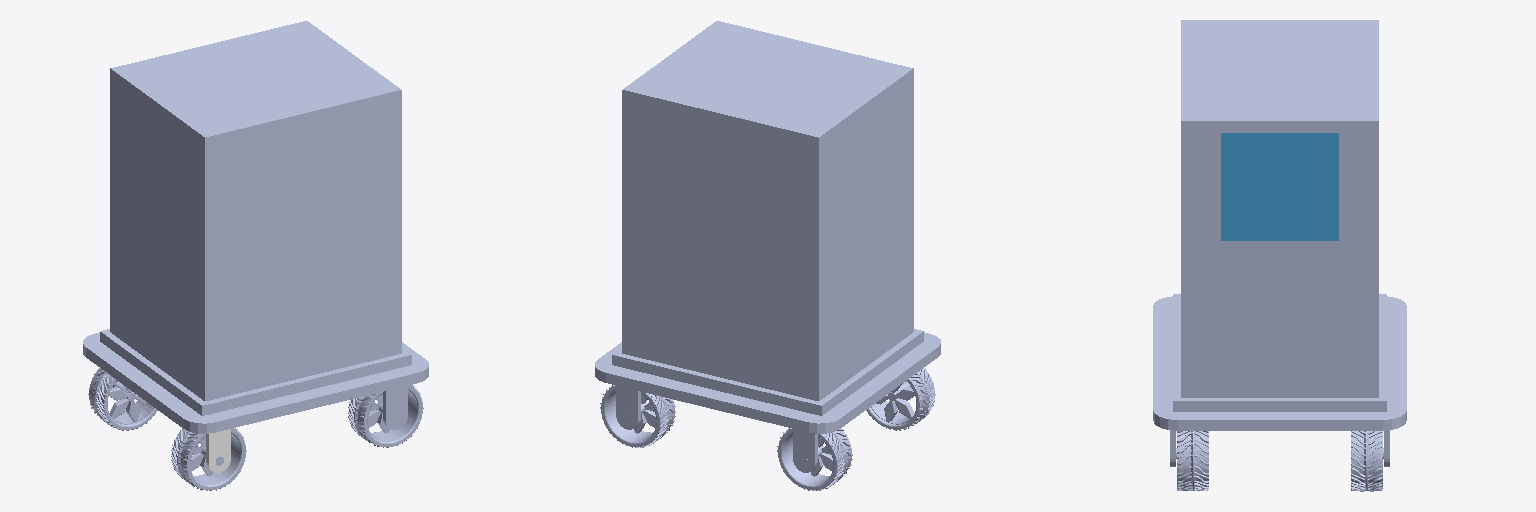
robot.urdf — caja1:
<?xml version="1.0" encoding="utf-8"?>
<!-- This URDF was automatically created by SolidWorks to URDF Exporter! Originally created by [author] ([email redacted]) 
     Commit Version:   Build Version: 1.6.9335.19781
     For more information, please see http://wiki.ros.org/sw_urdf_exporter -->
<robot
  name="caja1">
  <link
    name="base_link_caja">
    <inertial>
      <origin
        xyz="-1.5473E-10 1.3009E-10 0.30355"
        rpy="0 0 0" />
      <mass
        value="40" />
      <inertia
        ixx="0.57343"
        ixy="-2.5473E-12"
        ixz="-7.7732E-12"
        iyy="0.64792"
        iyz="1.9357E-12"
        izz="0.42048" />
    </inertial>
    <visual>
      <origin
        xyz="0 0 0"
        rpy="0 0 0" />
      <geometry>
        <mesh
          filename="package://palletizer_v1_description/meshes/base_link_caja.STL" />
      </geometry>
      <material
        name="">
        <color
          rgba="0.79216 0.81961 0.93333 1" />
      </material>
    </visual>
    <collision>
      <origin
        xyz="0 0 0"
        rpy="0 0 0" />
      <geometry>
        <mesh
          filename="package://palletizer_v1_description/meshes/base_link_caja.STL" />
      </geometry>
    </collision>
  </link>
  <link
    name="link1">
    <inertial>
      <origin
        xyz="-2.1175E-07 0.01406 0.037948"
        rpy="0 0 0" />
      <mass
        value="0.028235" />
      <inertia
        ixx="1.9996E-05"
        ixy="-8.0646E-11"
        ixz="1.4679E-10"
        iyy="1.6497E-05"
        iyz="5.884E-06"
        izz="8.1543E-06" />
    </inertial>
    <visual>
      <origin
        xyz="0 0 0"
        rpy="0 0 0" />
      <geometry>
        <mesh
          filename="package://palletizer_v1_description/meshes/link1.STL" />
      </geometry>
      <material
        name="">
        <color
          rgba="0.79216 0.81961 0.93333 1" />
      </material>
    </visual>
    <collision>
      <origin
        xyz="0 0 0"
        rpy="0 0 0" />
      <geometry>
        <mesh
          filename="package://palletizer_v1_description/meshes/link1.STL" />
      </geometry>
    </collision>
  </link>
  <joint
    name="joint1"
    type="continuous">
    <origin
      xyz="0.135 0.10943 0.05"
      rpy="0 0 0" />
    <parent
      link="base_link_caja" />
    <child
      link="link1" />
    <axis
      xyz="0 0 1" />
    <dynamics damping="0.01" friction="0.001" />
  </joint>
  <link
    name="linkwh1">
    <inertial>
      <origin
        xyz="2.1772E-06 -0.0014267 4.3565E-07"
        rpy="0 0 0" />
      <mass
        value="0.204" />
      <inertia
        ixx="9.0741E-05"
        ixy="3.2255E-09"
        ixz="1.2715E-09"
        iyy="0.00015413"
        iyz="5.1009E-10"
        izz="9.0733E-05" />
    </inertial>
    <visual>
      <origin
        xyz="0 0 0"
        rpy="0 0 0" />
      <geometry>
        <mesh
          filename="package://palletizer_v1_description/meshes/linkwh1.STL" />
      </geometry>
      <material
        name="">
        <color
          rgba="0.79216 0.81961 0.93333 1" />
      </material>
    </visual>
    <collision>
      <origin
        xyz="0 0 0"
        rpy="0 0 0" />
      <geometry>
        <mesh
          filename="package://palletizer_v1_description/meshes/linkwh1.STL" />
      </geometry>
    </collision>
  </link>
  <joint
    name="jointwh1"
    type="continuous">
    <origin
      xyz="0 0 0"
      rpy="0 0 0" />
    <parent
      link="link1" />
    <child
      link="linkwh1" />
    <axis
      xyz="0 1 0" />
  </joint>
  <link
    name="link2">
    <inertial>
      <origin
        xyz="-2.1175E-07 0.01406 0.037948"
        rpy="0 0 0" />
      <mass
        value="0.028235" />
      <inertia
        ixx="1.9996E-05"
        ixy="-8.0646E-11"
        ixz="1.4679E-10"
        iyy="1.6497E-05"
        iyz="5.884E-06"
        izz="8.1543E-06" />
    </inertial>
    <visual>
      <origin
        xyz="0 0 0"
        rpy="0 0 0" />
      <geometry>
        <mesh
          filename="package://palletizer_v1_description/meshes/link2.STL" />
      </geometry>
      <material
        name="">
        <color
          rgba="0.79216 0.81961 0.93333 1" />
      </material>
    </visual>
    <collision>
      <origin
        xyz="0 0 0"
        rpy="0 0 0" />
      <geometry>
        <mesh
          filename="package://palletizer_v1_description/meshes/link2.STL" />
      </geometry>
    </collision>
  </link>
  <joint
    name="joint2"
    type="continuous">
    <origin
      xyz="-0.135 0.10943 0.05"
      rpy="0 0 0" />
    <parent
      link="base_link_caja" />
    <child
      link="link2" />
    <axis
      xyz="0 0 1" />
    <dynamics damping="0.01" friction="0.001" />
  </joint>
  <link
    name="linkwh2">
    <inertial>
      <origin
        xyz="-2.1772E-06 -0.0014267 -4.3564E-07"
        rpy="0 0 0" />
      <mass
        value="0.204" />
      <inertia
        ixx="9.0741E-05"
        ixy="-3.2255E-09"
        ixz="1.2715E-09"
        iyy="0.00015413"
        iyz="-5.1009E-10"
        izz="9.0733E-05" />
    </inertial>
    <visual>
      <origin
        xyz="0 0 0"
        rpy="0 0 0" />
      <geometry>
        <mesh
          filename="package://palletizer_v1_description/meshes/linkwh2.STL" />
      </geometry>
      <material
        name="">
        <color
          rgba="0.79216 0.81961 0.93333 1" />
      </material>
    </visual>
    <collision>
      <origin
        xyz="0 0 0"
        rpy="0 0 0" />
      <geometry>
        <mesh
          filename="package://palletizer_v1_description/meshes/linkwh2.STL" />
      </geometry>
    </collision>
  </link>
  <joint
    name="jointwh2"
    type="continuous">
    <origin
      xyz="0 0 0"
      rpy="0 0 0" />
    <parent
      link="link2" />
    <child
      link="linkwh2" />
    <axis
      xyz="0 1 0" />
  </joint>
  <link
    name="link3">
    <inertial>
      <origin
        xyz="2.1175E-07 -0.01406 0.037948"
        rpy="0 0 0" />
      <mass
        value="0.028235" />
      <inertia
        ixx="1.9996E-05"
        ixy="-8.0646E-11"
        ixz="-1.4679E-10"
        iyy="1.6497E-05"
        iyz="-5.884E-06"
        izz="8.1543E-06" />
    </inertial>
    <visual>
      <origin
        xyz="0 0 0"
        rpy="0 0 0" />
      <geometry>
        <mesh
          filename="package://palletizer_v1_description/meshes/link3.STL" />
      </geometry>
      <material
        name="">
        <color
          rgba="0.79216 0.81961 0.93333 1" />
      </material>
    </visual>
    <collision>
      <origin
        xyz="0 0 0"
        rpy="0 0 0" />
      <geometry>
        <mesh
          filename="package://palletizer_v1_description/meshes/link3.STL" />
      </geometry>
    </collision>
  </link>
  <joint
    name="joint3"
    type="continuous">
    <origin
      xyz="0.135 -0.10943 0.05"
      rpy="0 0 0" />
    <parent
      link="base_link_caja" />
    <child
      link="link3" />
    <axis
      xyz="0 0 1" />
    <dynamics damping="0.01" friction="0.001" />
  </joint>
  <link
    name="linkwh3">
    <inertial>
      <origin
        xyz="-8.0681E-07 0.0014267 -2.0685E-06"
        rpy="0 0 0" />
      <mass
        value="0.204" />
      <inertia
        ixx="9.0734E-05"
        ixy="1.0627E-09"
        ixz="2.4716E-09"
        iyy="0.00015413"
        iyz="3.0879E-09"
        izz="9.074E-05" />
    </inertial>
    <visual>
      <origin
        xyz="0 0 0"
        rpy="0 0 0" />
      <geometry>
        <mesh
          filename="package://palletizer_v1_description/meshes/linkwh3.STL" />
      </geometry>
      <material
        name="">
        <color
          rgba="0.79216 0.81961 0.93333 1" />
      </material>
    </visual>
    <collision>
      <origin
        xyz="0 0 0"
        rpy="0 0 0" />
      <geometry>
        <mesh
          filename="package://palletizer_v1_description/meshes/linkwh3.STL" />
      </geometry>
    </collision>
  </link>
  <joint
    name="jointwh3"
    type="continuous">
    <origin
      xyz="0 0 0"
      rpy="0 0 0" />
    <parent
      link="link3" />
    <child
      link="linkwh3" />
    <axis
      xyz="0 -1 0" />
  </joint>
  <link
    name="link4">
    <inertial>
      <origin
        xyz="2.1175E-07 -0.01406 0.037948"
        rpy="0 0 0" />
      <mass
        value="0.028235" />
      <inertia
        ixx="1.9996E-05"
        ixy="-8.0646E-11"
        ixz="-1.4679E-10"
        iyy="1.6497E-05"
        iyz="-5.884E-06"
        izz="8.1543E-06" />
    </inertial>
    <visual>
      <origin
        xyz="0 0 0"
        rpy="0 0 0" />
      <geometry>
        <mesh
          filename="package://palletizer_v1_description/meshes/link4.STL" />
      </geometry>
      <material
        name="">
        <color
          rgba="1 1 1 1" />
      </material>
    </visual>
    <collision>
      <origin
        xyz="0 0 0"
        rpy="0 0 0" />
      <geometry>
        <mesh
          filename="package://palletizer_v1_description/meshes/link4.STL" />
      </geometry>
    </collision>
  </link>
  <joint
    name="joint4"
    type="continuous">
    <origin
      xyz="-0.135 -0.10943 0.05"
      rpy="0 0 0" />
    <parent
      link="base_link_caja" />
    <child
      link="link4" />
    <axis
      xyz="0 0 1" />
    <dynamics damping="0.01" friction="0.001" />
  </joint>
  <link
    name="linkwh4">
    <inertial>
      <origin
        xyz="-8.0681E-07 0.0014267 -2.0685E-06"
        rpy="0 0 0" />
      <mass
        value="0.204" />
      <inertia
        ixx="9.0734E-05"
        ixy="1.0627E-09"
        ixz="2.4716E-09"
        iyy="0.00015413"
        iyz="3.0879E-09"
        izz="9.074E-05" />
    </inertial>
    <visual>
      <origin
        xyz="0 0 0"
        rpy="0 0 0" />
      <geometry>
        <mesh
          filename="package://palletizer_v1_description/meshes/linkwh4.STL" />
      </geometry>
      <material
        name="">
        <color
          rgba="0.79216 0.81961 0.93333 1" />
      </material>
    </visual>
    <collision>
      <origin
        xyz="0 0 0"
        rpy="0 0 0" />
      <geometry>
        <mesh
          filename="package://palletizer_v1_description/meshes/linkwh4.STL" />
      </geometry>
    </collision>
  </link>
  <joint
    name="jointwh4"
    type="continuous">
    <origin
      xyz="0 0 0"
      rpy="0 0 0" />
    <parent
      link="link4" />
    <child
      link="linkwh4" />
    <axis
      xyz="0 -1 0" />
  </joint>

  <!-- ArUco marker on front face of the box -->
  <link name="aruco_marker_link">
    <visual>
      <origin
        xyz="0.01 0 0"
        rpy="1.5708 0 1.5708" />
      <geometry>
        <mesh
          filename="package://palletizer_v1_description/meshes/aruco_marker_1.dae" />
      </geometry>
    </visual>
  </link>
  <joint
    name="aruco_marker_joint"
    type="fixed">
    <origin
      xyz="0.145 0 0.43"
      rpy="0 0 0" />
    <parent
      link="base_link_caja" />
    <child
      link="aruco_marker_link" />
  </joint>

  <!-- Gazebo friction settings for caster wheels -->
  <gazebo reference="linkwh1">
    <mu1>0.0</mu1>
    <mu2>0.0</mu2>
    <kp>1000000.0</kp>
    <kd>100.0</kd>
    <minDepth>0.001</minDepth>
  </gazebo>
  
  <gazebo reference="linkwh2">
    <mu1>0.0</mu1>
    <mu2>0.0</mu2>
    <kp>1000000.0</kp>
    <kd>100.0</kd>
    <minDepth>0.001</minDepth>
  </gazebo>
  
  <gazebo reference="linkwh3">
    <mu1>0.0</mu1>
    <mu2>0.0</mu2>
    <kp>1000000.0</kp>
    <kd>100.0</kd>
    <minDepth>0.001</minDepth>
  </gazebo>
  
  <gazebo reference="linkwh4">
    <mu1>0.0</mu1>
    <mu2>0.0</mu2>
    <kp>1000000.0</kp>
    <kd>100.0</kd>
    <minDepth>0.001</minDepth>
  </gazebo>
</robot>

--- Render facts (derived) ---
The picture shows the robot from 3 angles, left to right: view 1: azimuth 30°, elevation 25°; view 2: azimuth 150°, elevation 25°; view 3: azimuth 270°, elevation 25°; orthographic projection.
Model caja1 with 10 links and 9 joints (8 continuous, 1 fixed), rooted at base_link_caja, posed every joint at zero.
Links seen in each view (by area): view 1: base_link_caja, linkwh4, linkwh3, linkwh2, link4, link3; view 2: base_link_caja, linkwh2, linkwh1, linkwh4, link2, link1; view 3: base_link_caja, aruco_marker_link, linkwh1, linkwh3.
Boxes of the visible links, box(x1,y1,x2,y2) form: base_link_caja: box(83, 21, 428, 433); linkwh4: box(171, 428, 246, 490); linkwh3: box(348, 385, 423, 447); linkwh2: box(88, 368, 157, 430); link4: box(206, 429, 230, 472); link3: box(383, 386, 407, 429); base_link_caja: box(595, 21, 940, 433); linkwh2: box(777, 428, 852, 490); linkwh1: box(600, 385, 675, 447); linkwh4: box(866, 368, 935, 430); link2: box(793, 429, 817, 472); link1: box(616, 386, 640, 429); base_link_caja: box(1153, 20, 1406, 430); aruco_marker_link: box(1221, 133, 1338, 240); linkwh1: box(1351, 431, 1383, 491); linkwh3: box(1176, 431, 1208, 490).
Size in the robot's own frame: 0.37 by 0.32 by 0.5179 metres.
10 mesh visuals loaded from 10 distinct referenced files (9 binary STL, 1 Collada DAE).
